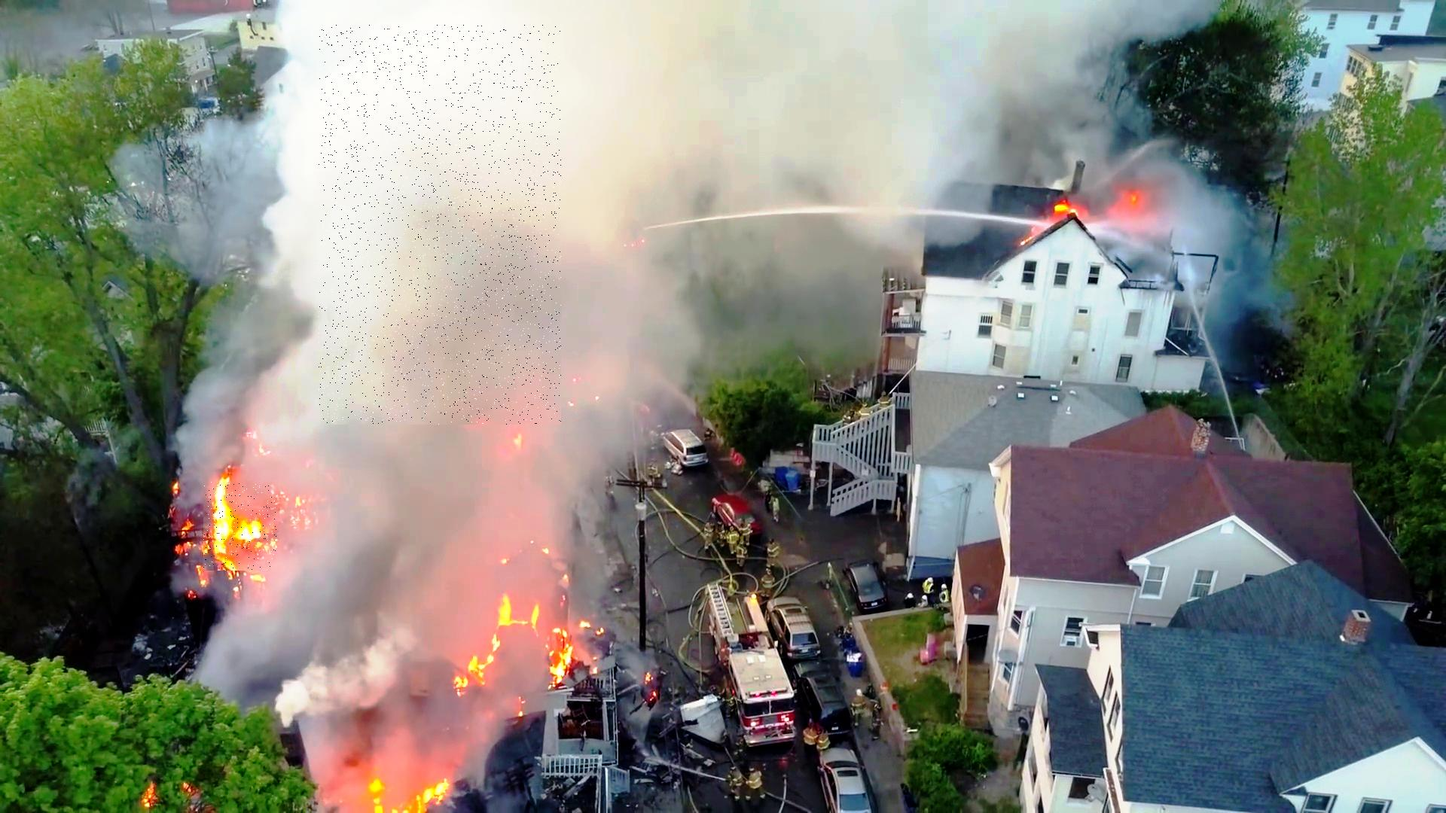fire: (204, 482, 277, 571)
smoke: (319, 25, 561, 425)
